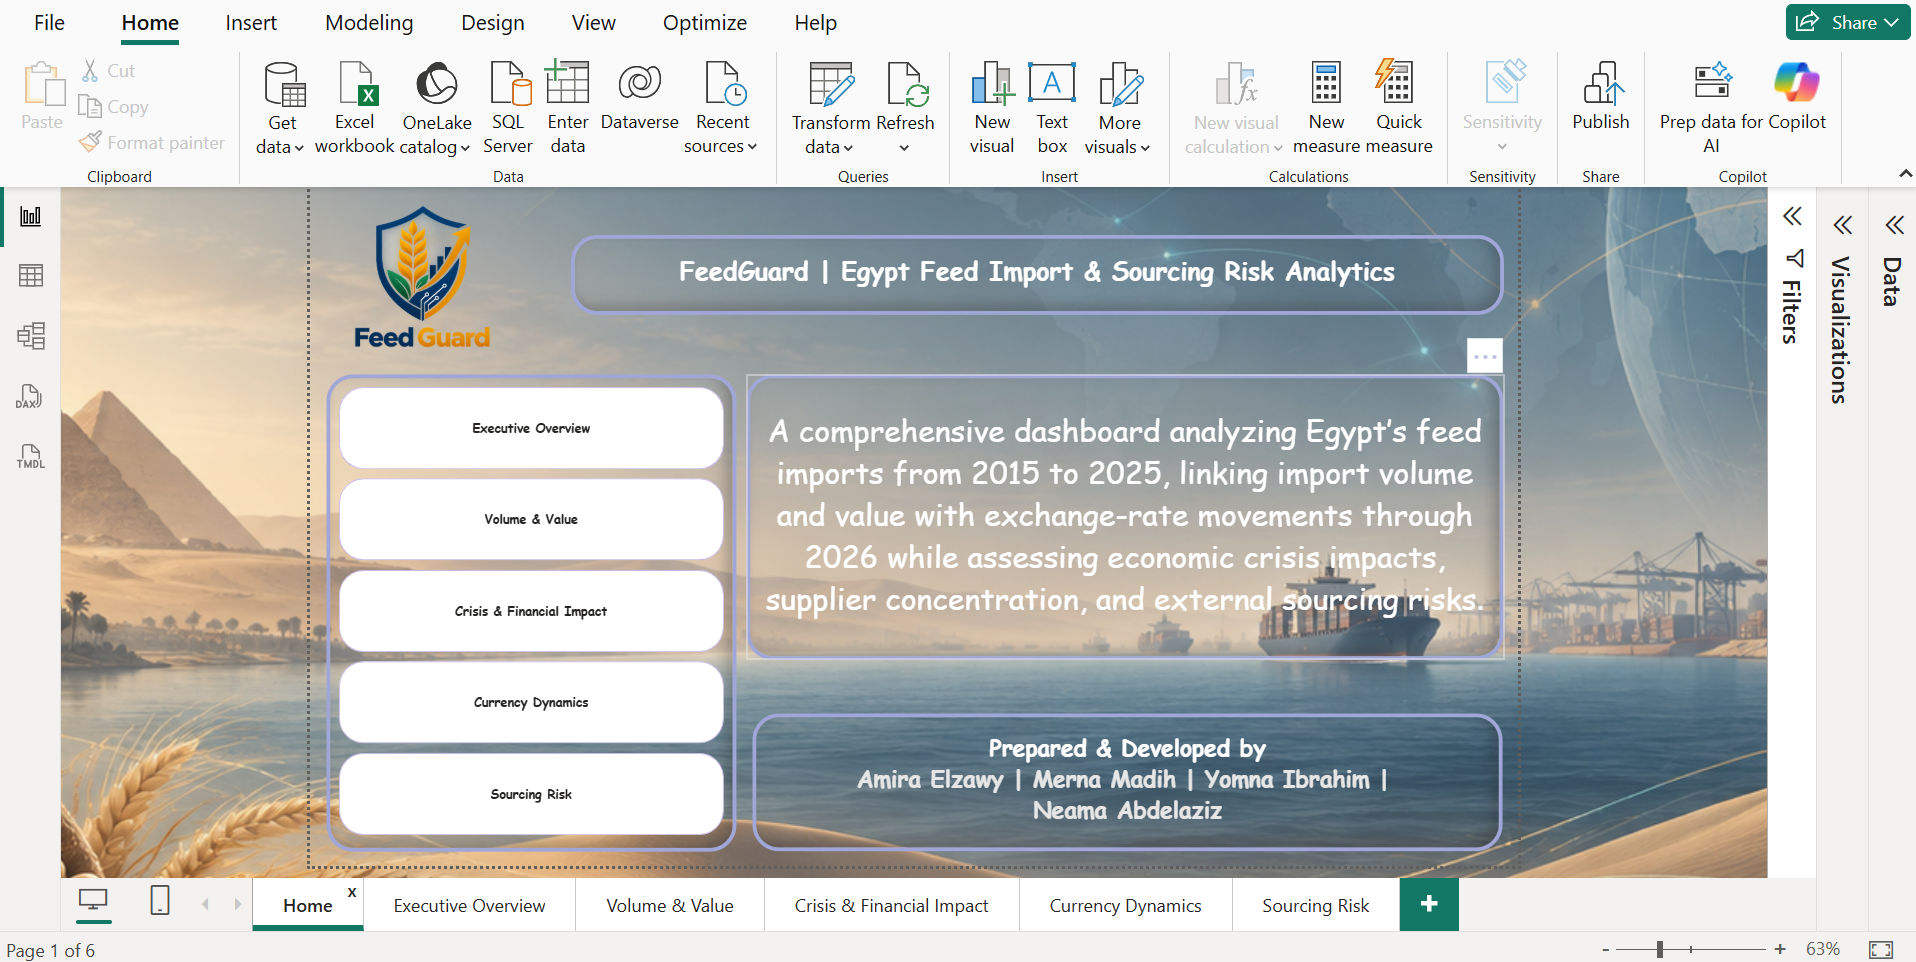

This screenshot's page, from the dashboard's own definition file:
{"tool":"powerbi","page":{"name":"Home","canvas":[1280,720],"ordinal":0},"visuals":[{"type":"image","box":[0,0,237.3,188.7],"z":0},{"type":"pageNavigator","box":[17.5,198.4,434.8,505.8],"z":1000},{"type":"textbox","box":[276.2,51.6,989.2,84.6],"z":2000},{"type":"textbox","box":[463,198.4,802.4,302.5],"z":3000},{"type":"textbox","box":[469.8,558.3,795.6,145.9],"z":4000}]}

Visuals, with their boxes on the page's 1280x720 design canvas (x1, y1, x2, y2). These are canvas units, not pixel positions in the 1916x962 screenshot, which may show the page scaled, cropped or inside an application window:
image: (0,0,237,189)
pageNavigator: (18,198,452,704)
textbox: (276,52,1265,136)
textbox: (463,198,1265,501)
textbox: (470,558,1265,704)
